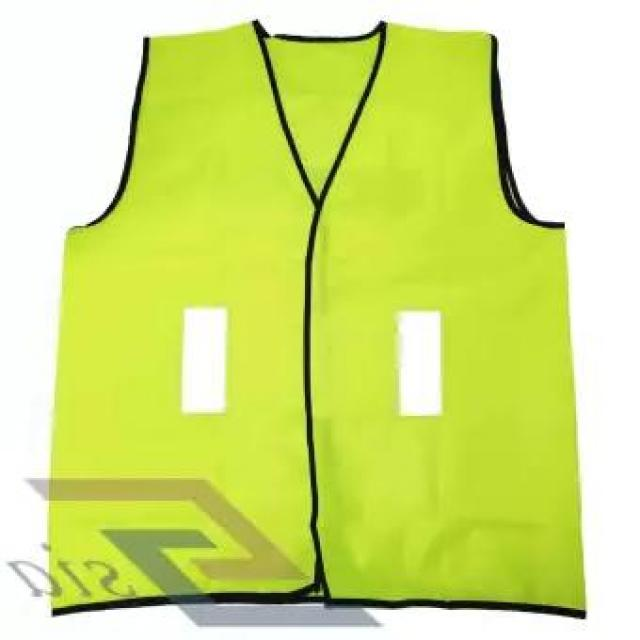Reflective-Jacket: (13, 4, 638, 636)
